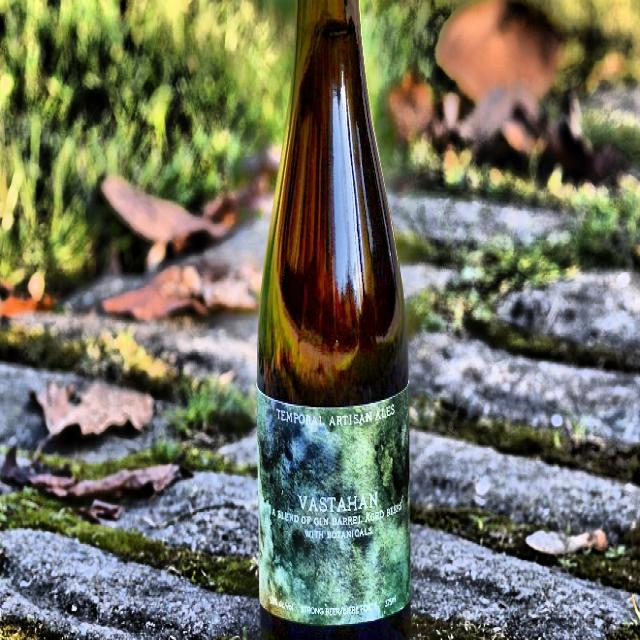glass: (255, 0, 417, 640)
